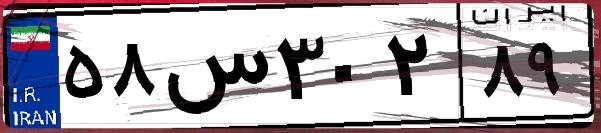0: (330, 28, 385, 110)
2: (385, 28, 445, 110)
3: (270, 28, 330, 110)
5: (57, 26, 110, 100)
8: (475, 38, 525, 113), (110, 28, 158, 98)
9: (525, 38, 570, 115)
س: (158, 20, 270, 120)
